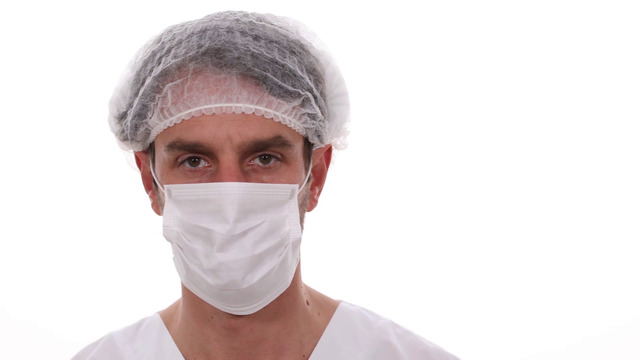mask: (161, 185, 309, 299)
